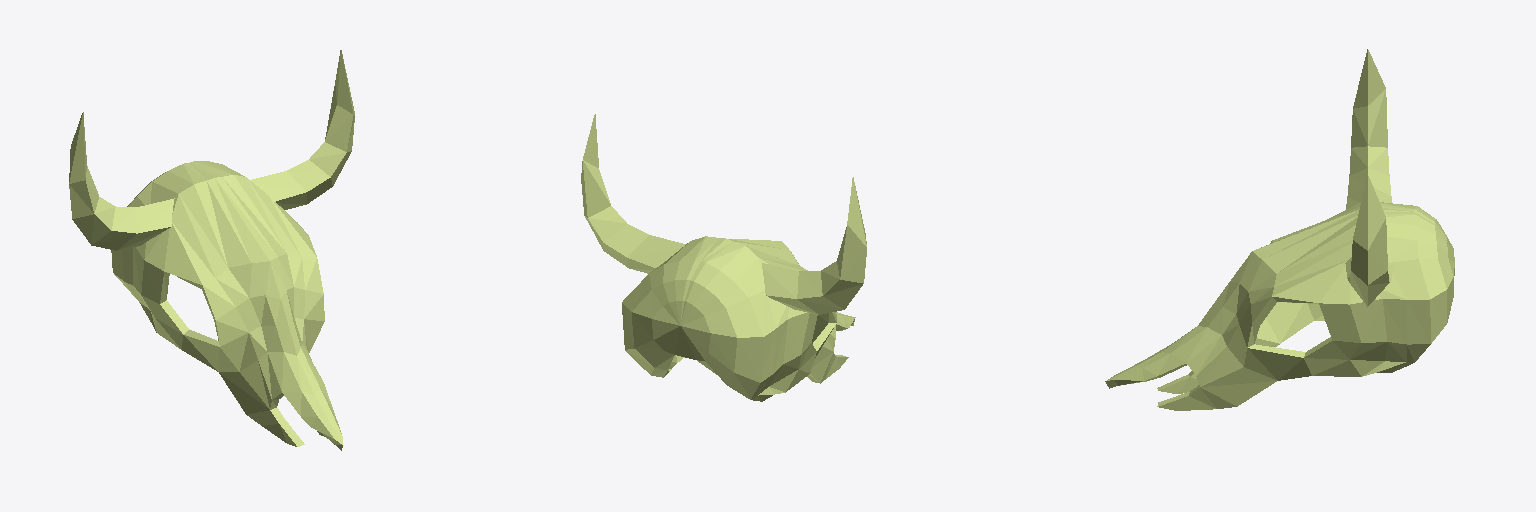
File: bonehead.obj
3 views of the same model, side by side, from view 1: azimuth 30°, elevation 25°; view 2: azimuth 150°, elevation 25°; view 3: azimuth 270°, elevation 25° (orthographic).
Parts seen in each view (by area): view 1: Plane003, Object001; view 2: Plane003, Object001; view 3: Plane003, Object001.
Boxes of the visible parts, <box> form: Plane003: <box>111,161,343,450</box>; Object001: <box>69,50,354,250</box>; Plane003: <box>622,236,855,401</box>; Object001: <box>581,114,866,314</box>; Plane003: <box>1105,202,1454,410</box>; Object001: <box>1345,49,1393,306</box>.
Bounding box in the file's own units: 12596 × 12209 × 13339.